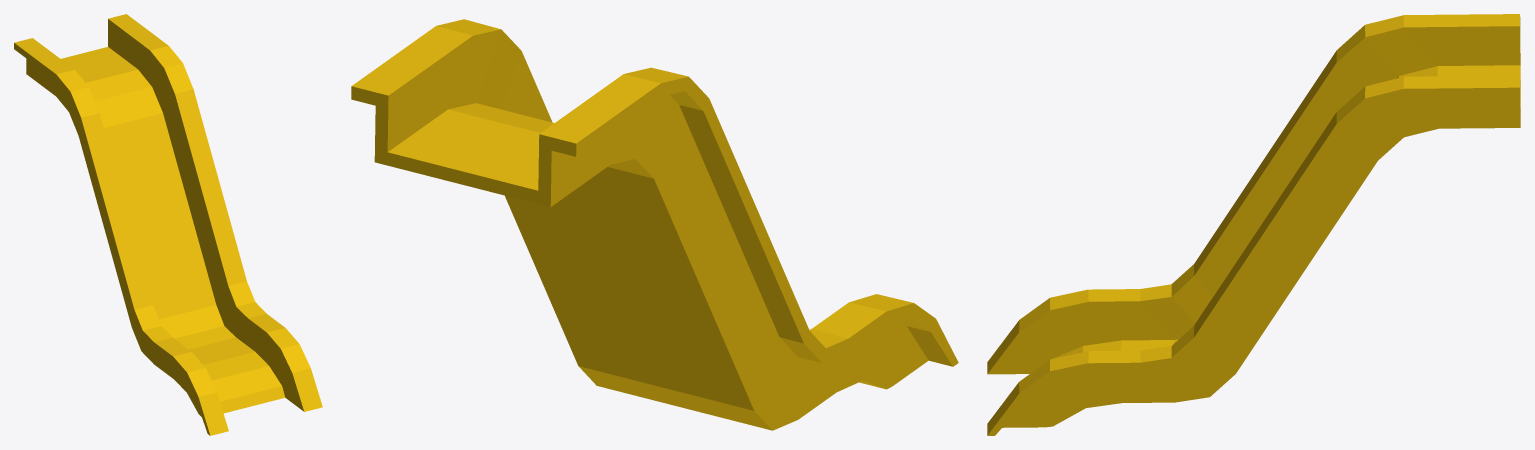
File: Playground_childrenscomplex.fbx
The picture shows the model from 3 angles, left to right: view 1: azimuth 30°, elevation 25°; view 2: azimuth 150°, elevation 25°; view 3: azimuth 270°, elevation 25°; orthographic projection. The views are drawn at different scales.
Visible parts, largest first — view 1: Playground_childrenscomplex; view 2: Playground_childrenscomplex; view 3: Playground_childrenscomplex.
Boxes of the visible parts, <box> form: Playground_childrenscomplex: <box>14,14,322,435</box>; Playground_childrenscomplex: <box>351,19,958,430</box>; Playground_childrenscomplex: <box>987,14,1520,435</box>.
Bounding box in the file's own units: 75.12 × 219 × 158.
